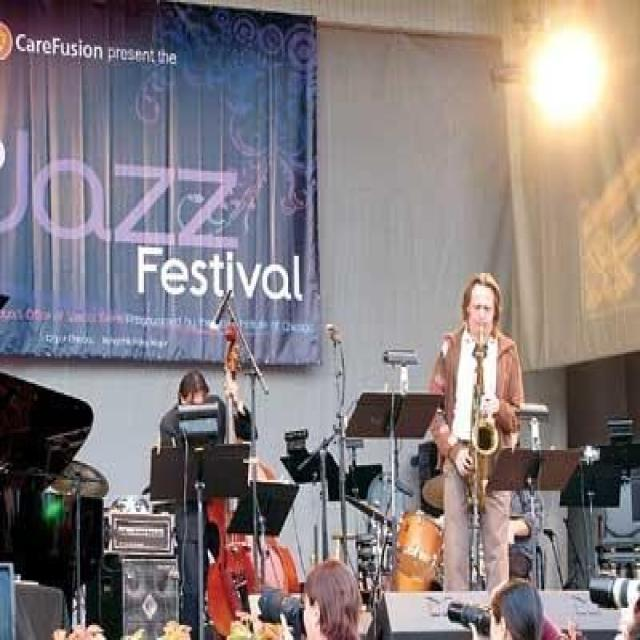cello: (203, 320, 305, 631)
drums: (343, 465, 550, 590)
saxophone: (464, 337, 502, 509)
